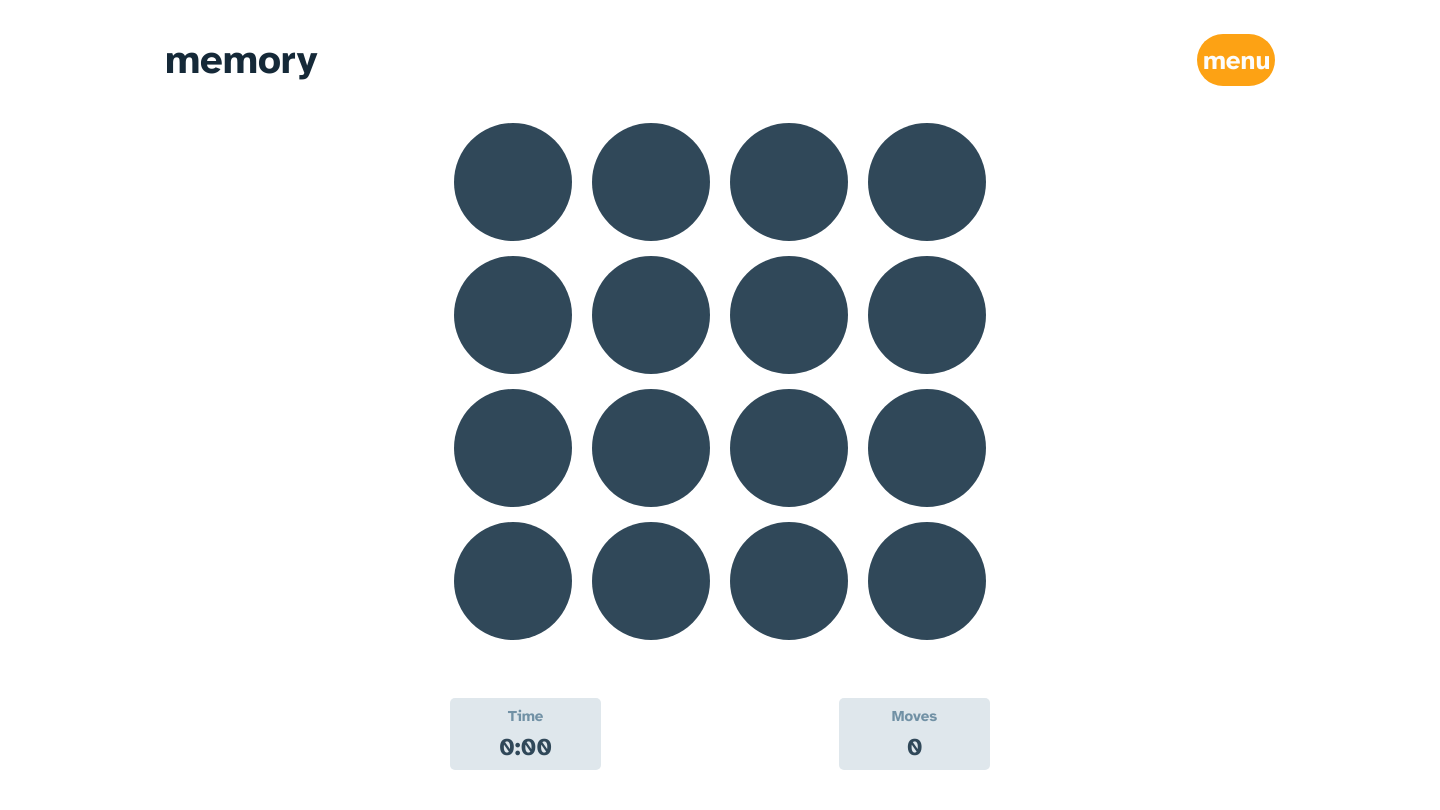
Test: solo game small screen › should have a moves counter that goes up after each tiles selections
Expected: the message "Moves" reads "Moves 0", [839, 698, 990, 770]
Click the 1st list item named "memory item": (513, 182) [454, 123, 572, 241]
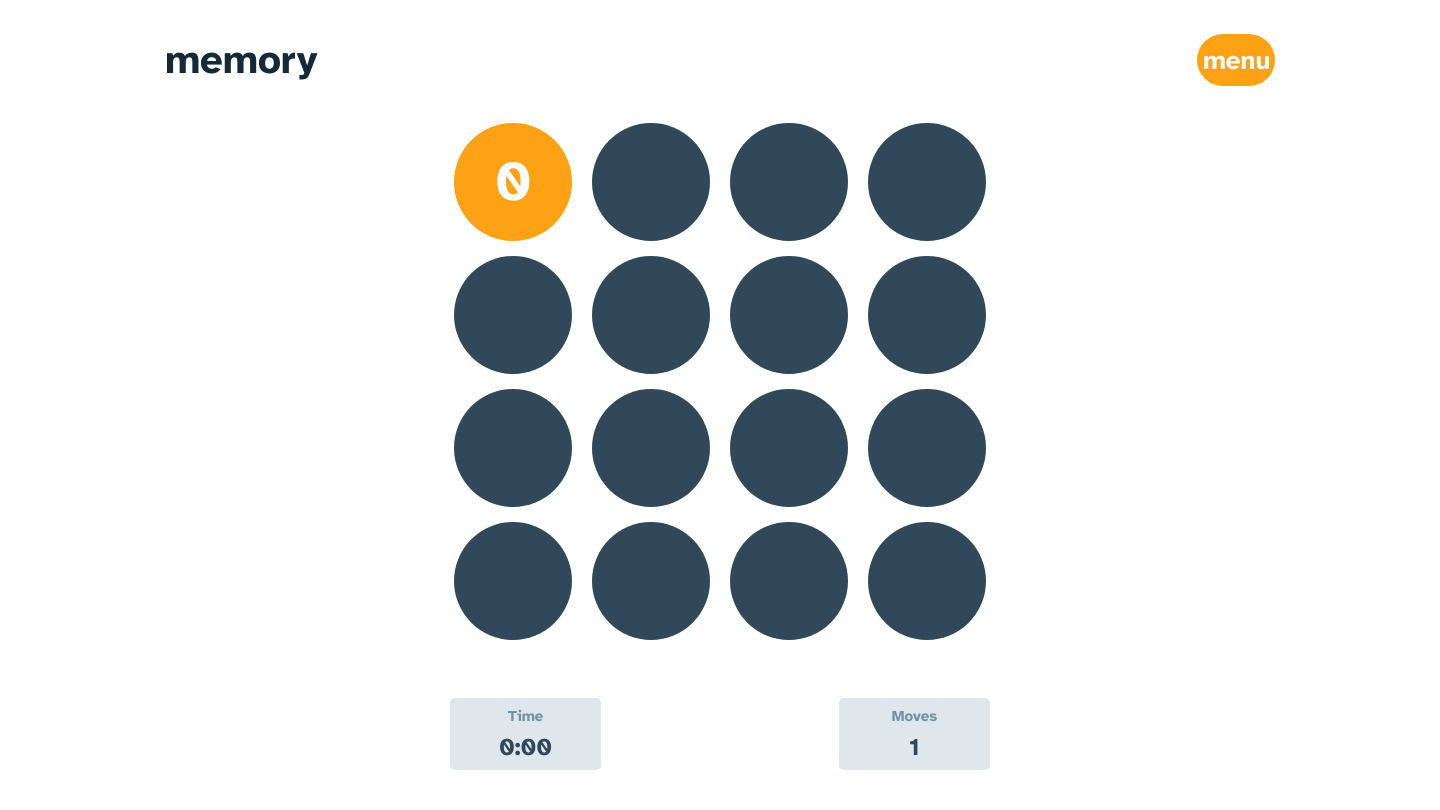
Now the message "Moves" reads "Moves 1", box [839, 698, 990, 770]
